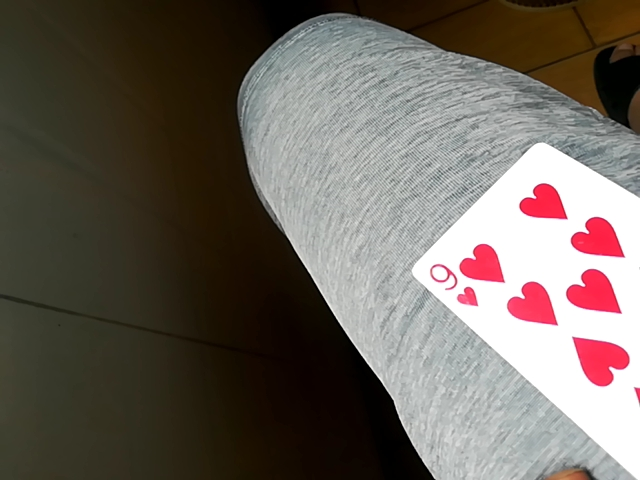hx 9: (410, 151, 638, 475)
